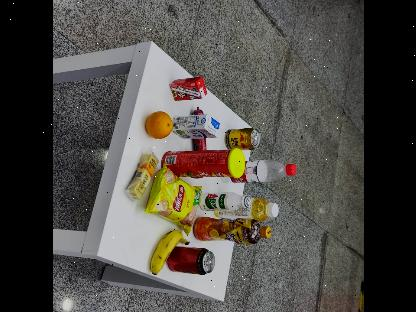Can: (164, 248, 216, 276), (225, 128, 261, 150)
Others: (168, 152, 244, 178), (160, 74, 208, 102), (170, 116, 226, 138)
Plastic Bottle: (194, 218, 272, 242), (238, 162, 298, 184), (198, 193, 250, 211)
